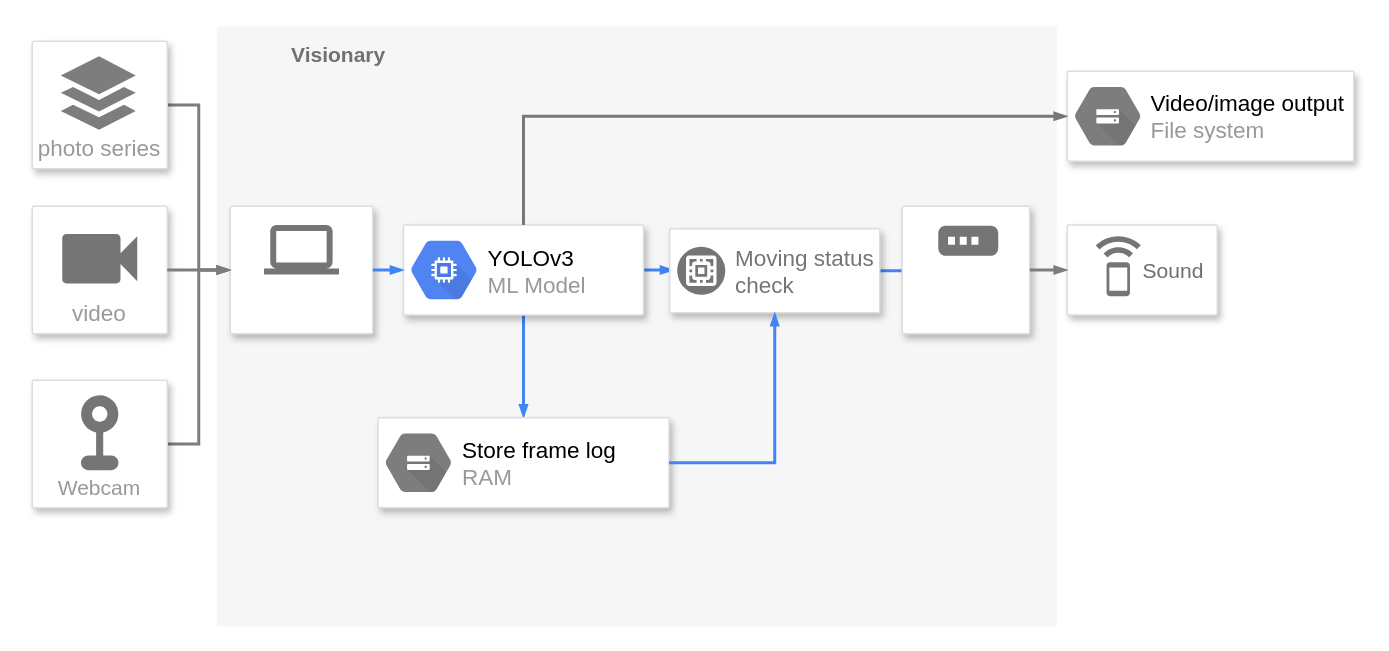
This 1389x651 diagram has some shape labels left out. Here are the shapes that lost their labels. From the top down, the centre of each, then its label:
At point (302, 271): "Input processing".
At point (967, 271): "Playsound function".
